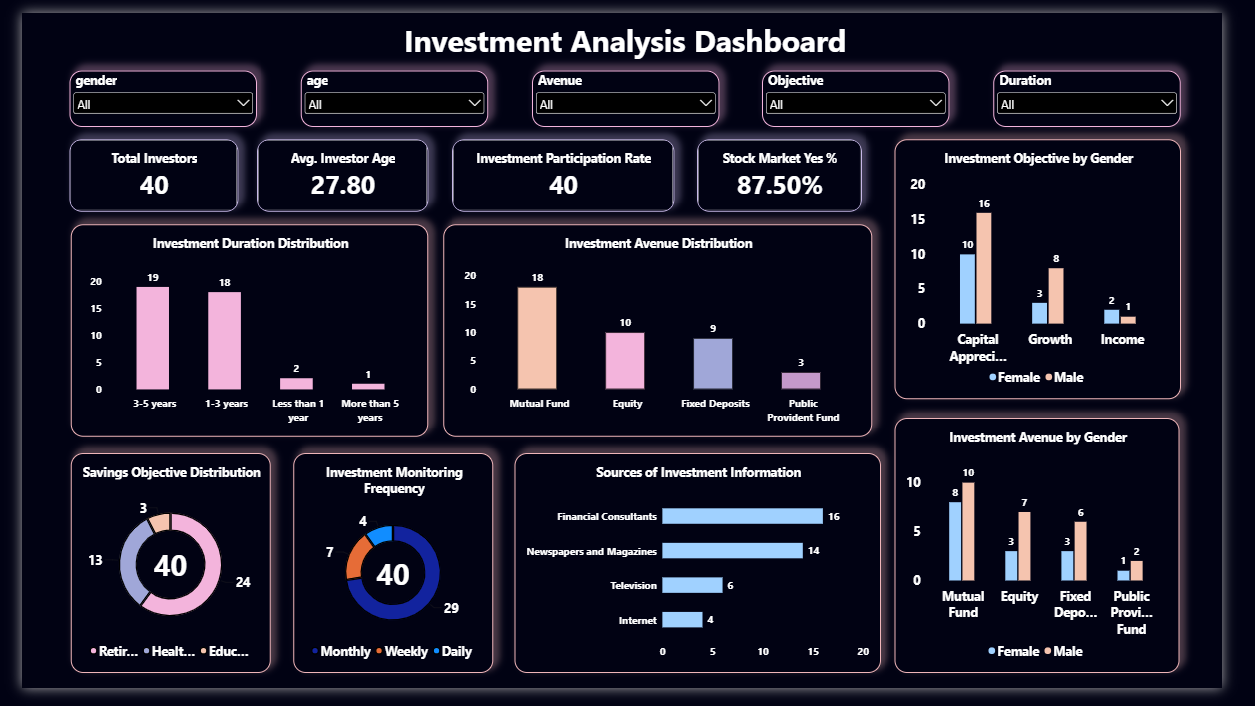

What the dashboard file says about the page in this screenshot:
{"tool":"powerbi","page":{"name":"Final Dashboard","canvas":[1920,1080],"ordinal":6},"visuals":[{"type":"textbox","box":[76,10.7,1778,65.3],"z":0},{"type":"clusteredColumnChart","title":"Investment Avenue by Gender","fields":{"Category":["Investments.Avenue"],"Y":["CountNonNull(Investments.Avenue)"],"Series":["Investments.gender"]},"box":[1396,648,456,408],"z":1000},{"type":"clusteredColumnChart","title":"Investment Duration Distribution","fields":{"Category":["Investments.Duration"],"Y":["CountNonNull(Investments.Duration)"]},"box":[78,338,572,340],"z":2000},{"type":"donutChart","title":"Savings Objective Distribution","fields":{"Y":["CountNonNull(Investments.What are your savings objectives?)"],"Category":["Investments.What are your savings objectives?"]},"box":[78,704,320,352],"z":3000},{"type":"clusteredColumnChart","title":"Investment Avenue Distribution","fields":{"Category":["Investments.Avenue"],"Y":["CountNonNull(Investments.Source)"]},"box":[674,338,686,340],"z":4000},{"type":"cardVisual","fields":{"Data":["All_Measures.Average Age"]},"box":[376,202,274,116],"z":4001},{"type":"cardVisual","fields":{"Data":["All_Measures.Total Respondents"]},"box":[76,202,270,116],"z":4002},{"type":"cardVisual","fields":{"Data":["All_Measures.Stock Market Yes %"]},"box":[1080,202,264,116],"z":4003},{"type":"cardVisual","fields":{"Data":["All_Measures.Investment Participation Count"]},"box":[688,202,356,116],"z":4004},{"type":"clusteredColumnChart","title":"Investment Objective by Gender","fields":{"Y":["CountNonNull(Investments.Avenue)"],"Series":["Investments.gender"],"Category":["Investments.Objective"]},"box":[1396,202,458,416],"z":4005},{"type":"clusteredBarChart","title":"Sources of Investment Information","fields":{"Category":["Investments.Source"],"Y":["CountNonNull(Investments.Source)"]},"box":[788,704,586,352],"z":4006},{"type":"donutChart","title":"Investment Monitoring Frequency","fields":{"Category":["Investments.Invest_Monitor"],"Y":["CountNonNull(Investments.Invest_Monitor)"]},"box":[433,704,320,352],"z":4007},{"type":"slicer","fields":{"Values":["Investments.gender"]},"box":[76,92,300,90],"z":4008},{"type":"slicer","fields":{"Values":["Investments.age"]},"box":[445.5,92,300,90],"z":4009},{"type":"slicer","fields":{"Values":["Investments.Avenue"]},"box":[815,92,300,90],"z":4010},{"type":"slicer","fields":{"Values":["Investments.Objective"]},"box":[1184.5,92,300,90],"z":4011},{"type":"slicer","fields":{"Values":["Investments.Duration"]},"box":[1554,92,300,90],"z":4012}]}

Visuals, with their boxes in screenshot pixels (x1, y1, x2, y2), scaled from the page's 1920x1080 canvas onto the 1255x706 screenshot:
textbox: region(50, 7, 1212, 50)
"Investment Avenue by Gender" clusteredColumnChart: region(912, 424, 1211, 690)
"Investment Duration Distribution" clusteredColumnChart: region(51, 221, 425, 443)
"Savings Objective Distribution" donutChart: region(51, 460, 260, 690)
"Investment Avenue Distribution" clusteredColumnChart: region(441, 221, 889, 443)
cardVisual - All_Measures.Average Age: region(246, 132, 425, 208)
cardVisual - All_Measures.Total Respondents: region(50, 132, 226, 208)
cardVisual - All_Measures.Stock Market Yes %: region(706, 132, 878, 208)
cardVisual - All_Measures.Investment Participation Count: region(450, 132, 682, 208)
"Investment Objective by Gender" clusteredColumnChart: region(912, 132, 1212, 404)
"Sources of Investment Information" clusteredBarChart: region(515, 460, 898, 690)
"Investment Monitoring Frequency" donutChart: region(283, 460, 492, 690)
slicer - Investments.gender: region(50, 60, 246, 119)
slicer - Investments.age: region(291, 60, 487, 119)
slicer - Investments.Avenue: region(533, 60, 729, 119)
slicer - Investments.Objective: region(774, 60, 970, 119)
slicer - Investments.Duration: region(1016, 60, 1212, 119)
